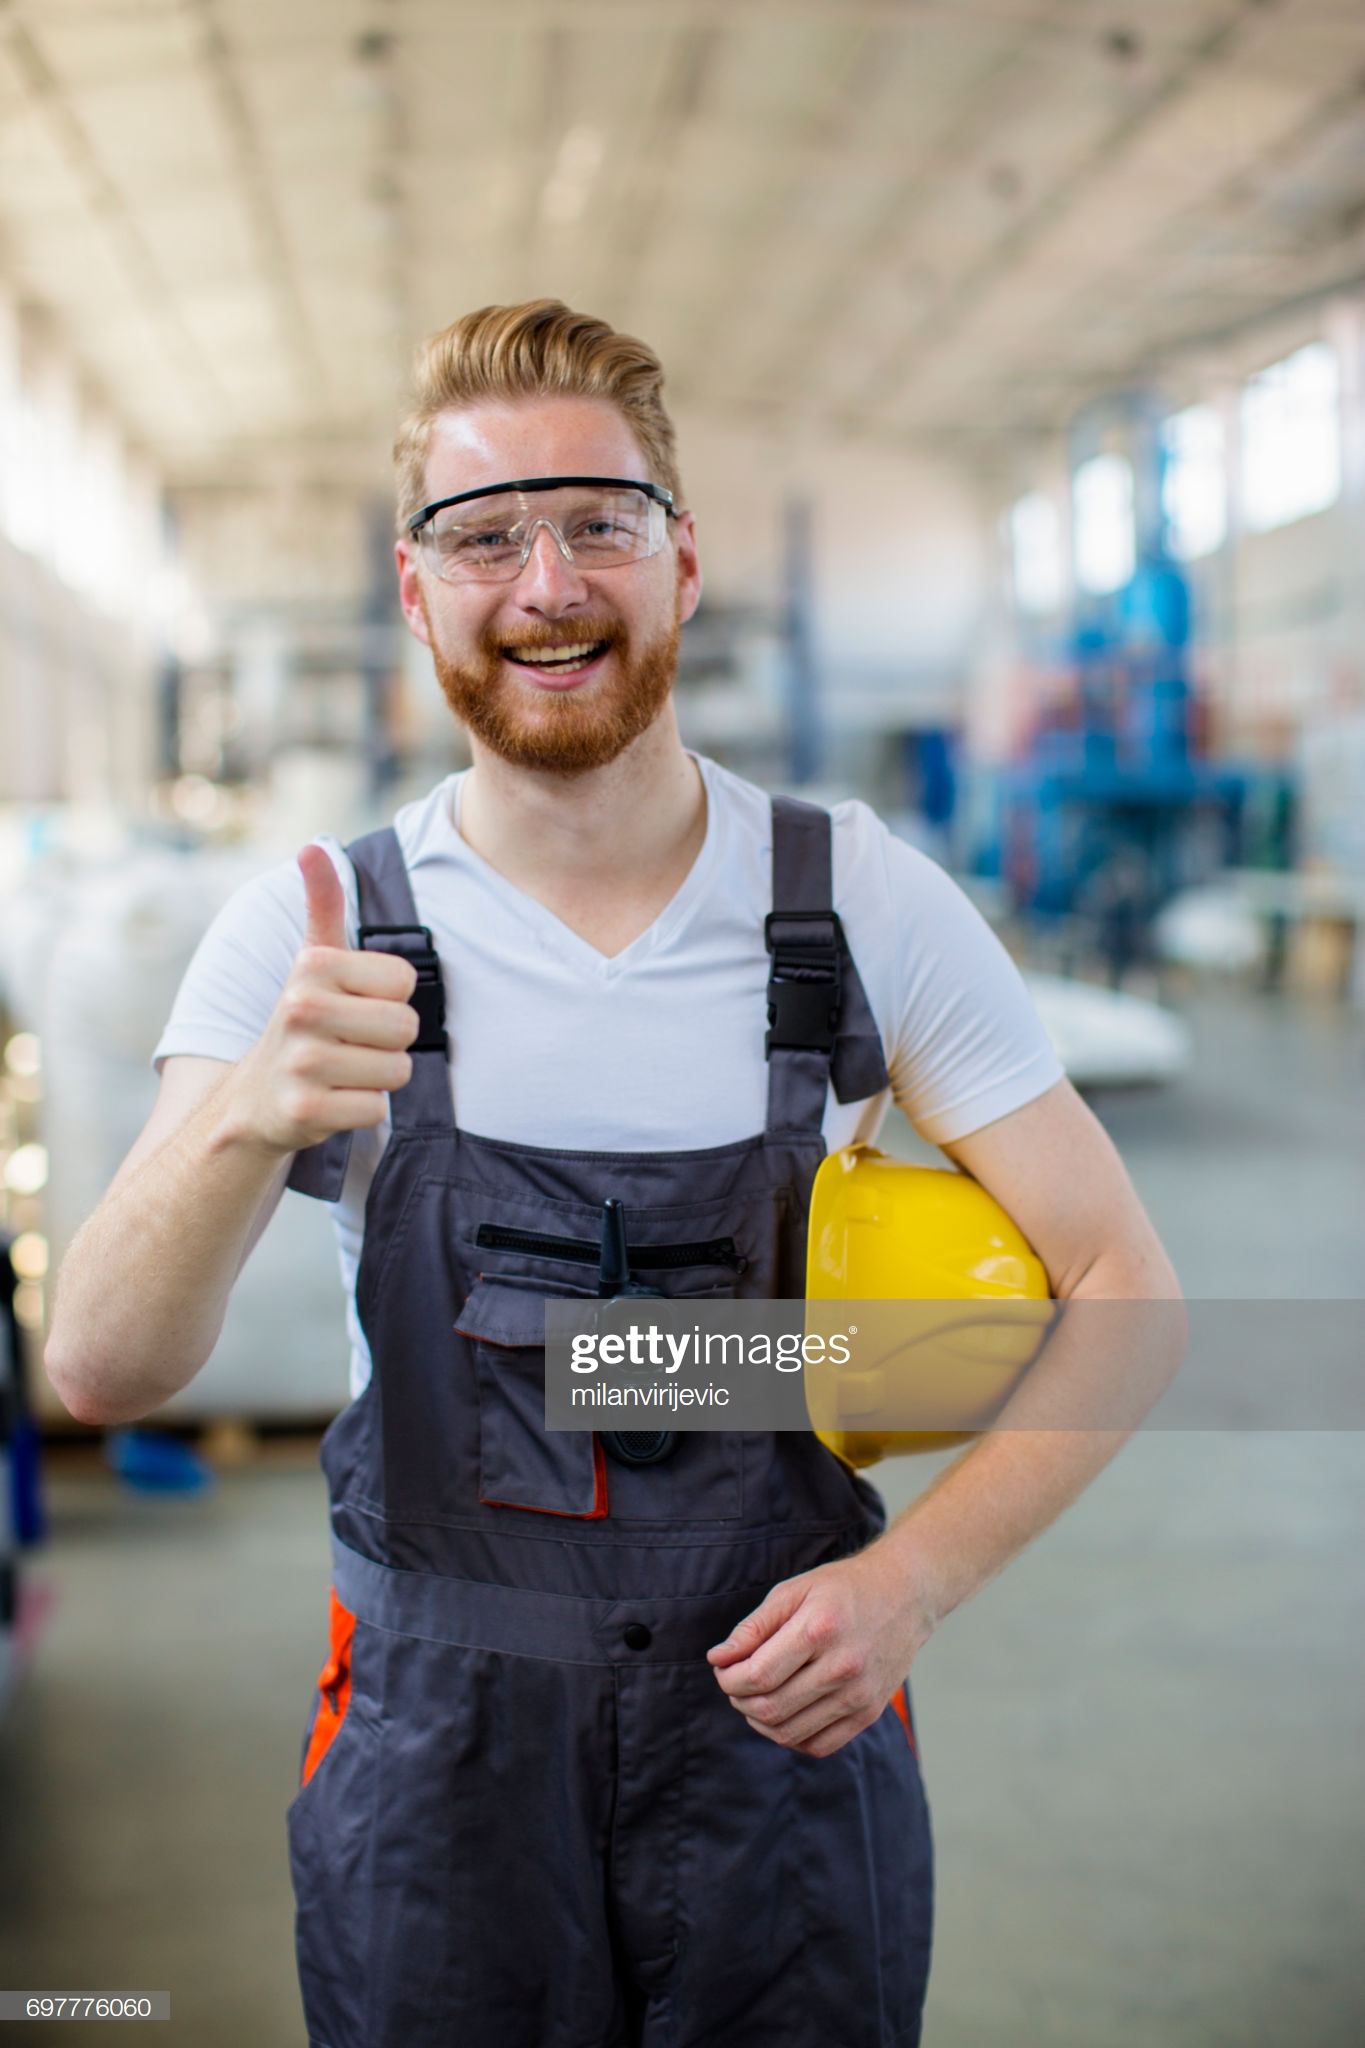thumbsup: (280, 844, 420, 1133)
